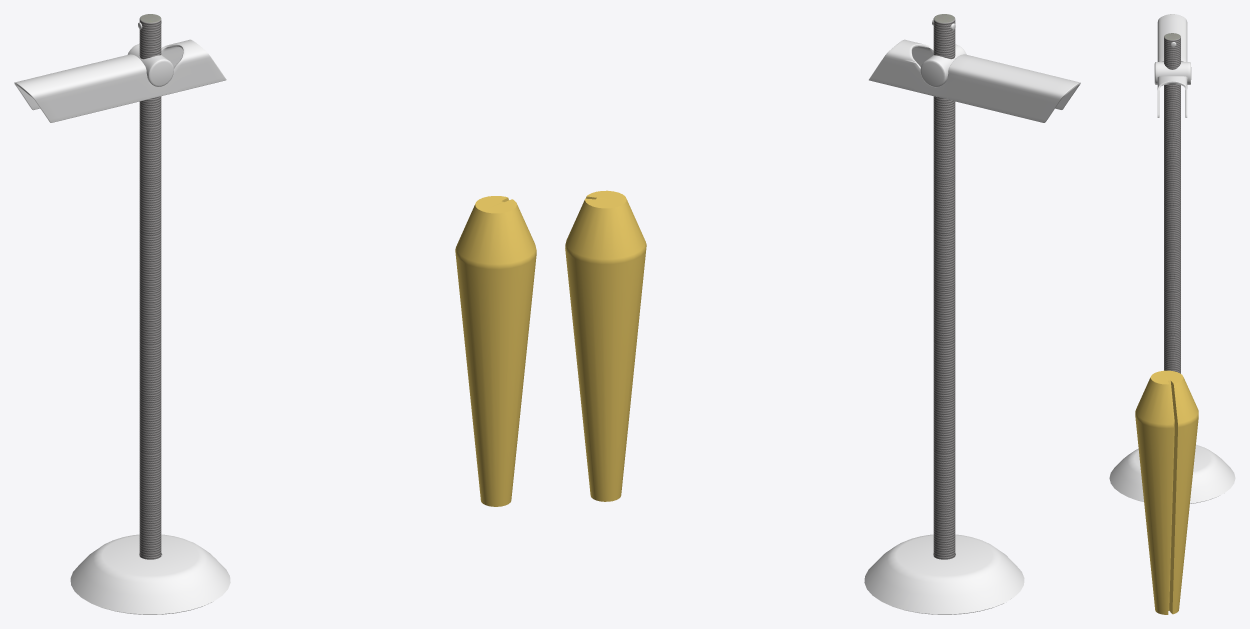
File: Toggle mambrene.fbx
The picture shows the model from 3 angles, left to right: view 1: azimuth 30°, elevation 25°; view 2: azimuth 150°, elevation 25°; view 3: azimuth 270°, elevation 25°; orthographic projection. The views are drawn at different scales.
Visible parts, largest first — view 1: Asset_3, Asset_4, Asset_3.001; view 2: Asset_3, Asset_4, Asset_3.001; view 3: Asset_4, Asset_3, Asset_3.001.
Boxes of the visible parts, x1=… form: Asset_3: x1=70, y1=14, x2=230, y2=614; Asset_4: x1=455, y1=196, x2=536, y2=506; Asset_3.001: x1=14, y1=39, x2=226, y2=122; Asset_3: x1=864, y1=14, x2=1024, y2=614; Asset_4: x1=565, y1=190, x2=646, y2=501; Asset_3.001: x1=869, y1=39, x2=1080, y2=122; Asset_4: x1=1135, y1=370, x2=1198, y2=614; Asset_3: x1=1109, y1=33, x2=1235, y2=503; Asset_3.001: x1=1154, y1=14, x2=1191, y2=117.
Bounding box in the file's own units: 81.75 × 86.63 × 22.34.
4 materials, 2 textured.
